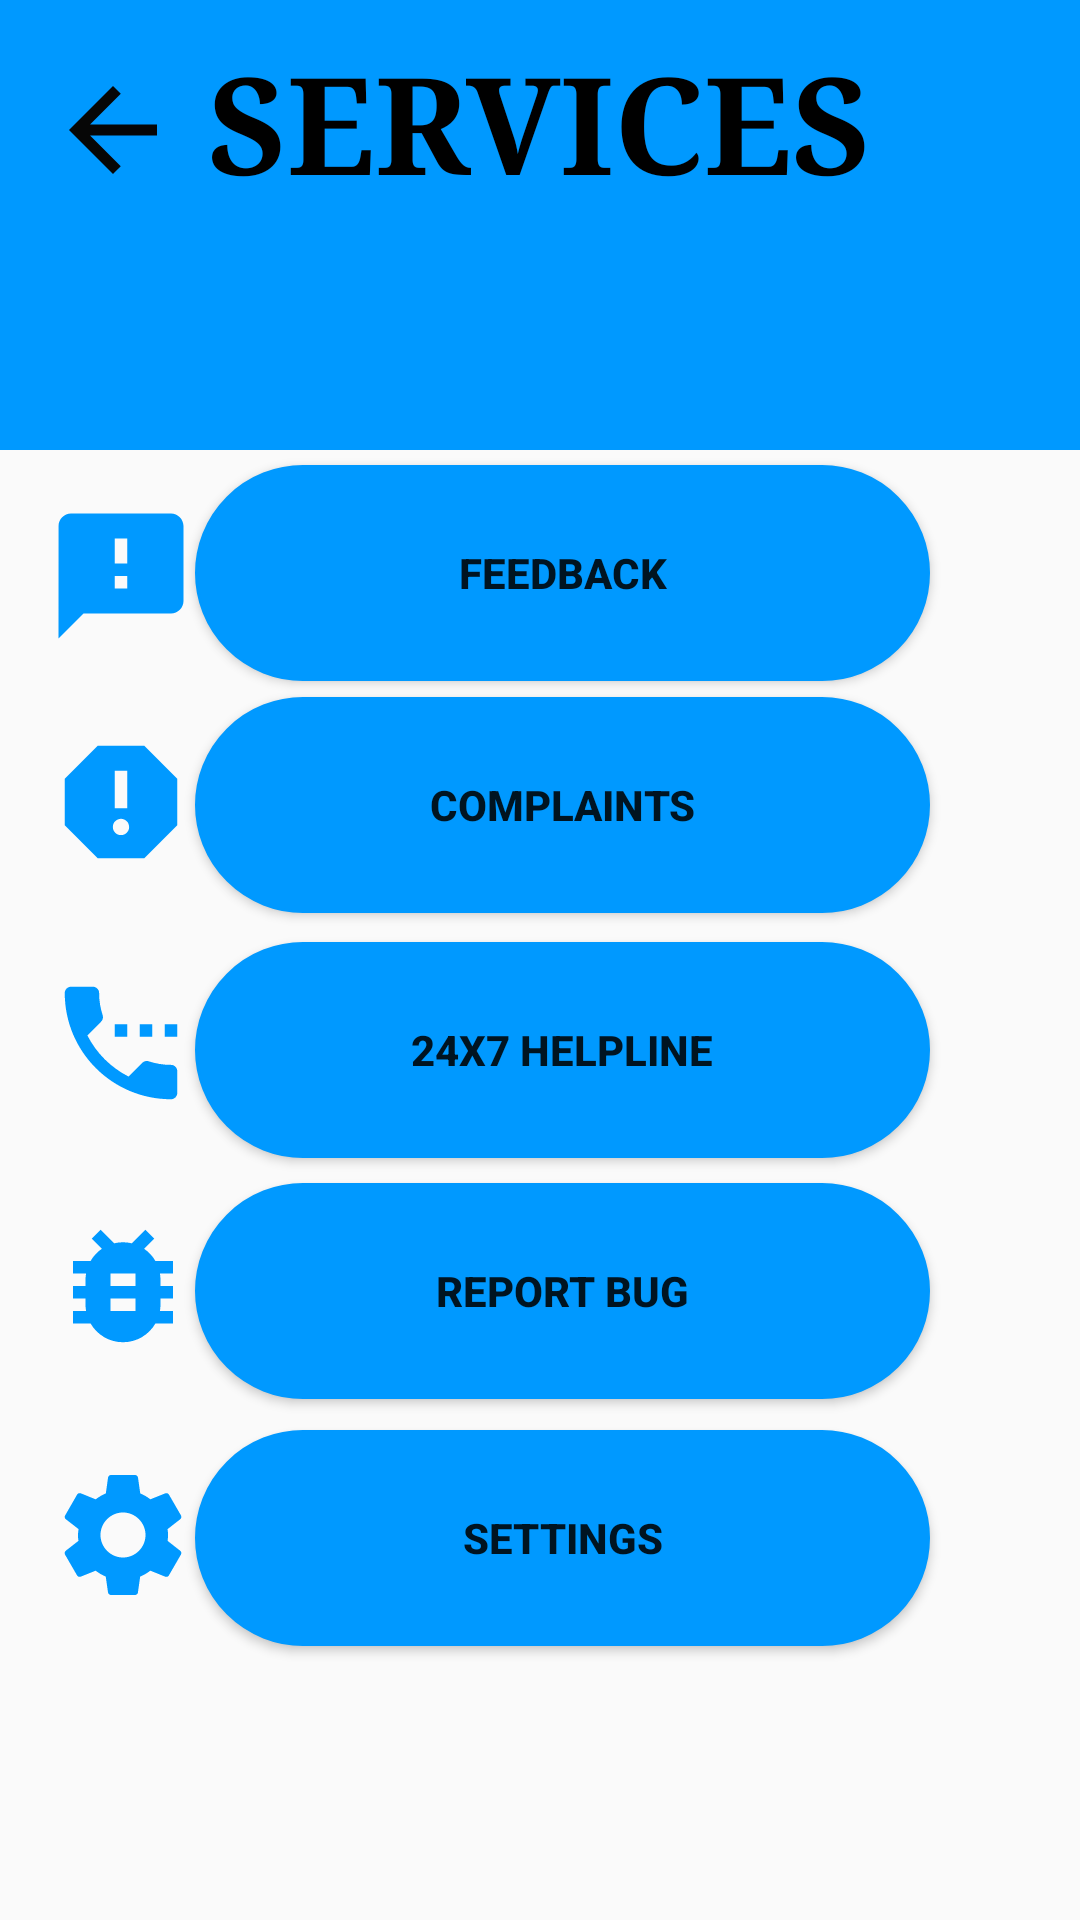

Icons on this 1080*1920 Android screen, each with its box as (x1, y1, x2, y2):
arrow back: (69, 86, 157, 174)
report: (64, 745, 178, 859)
settings phone: (64, 986, 178, 1100)
